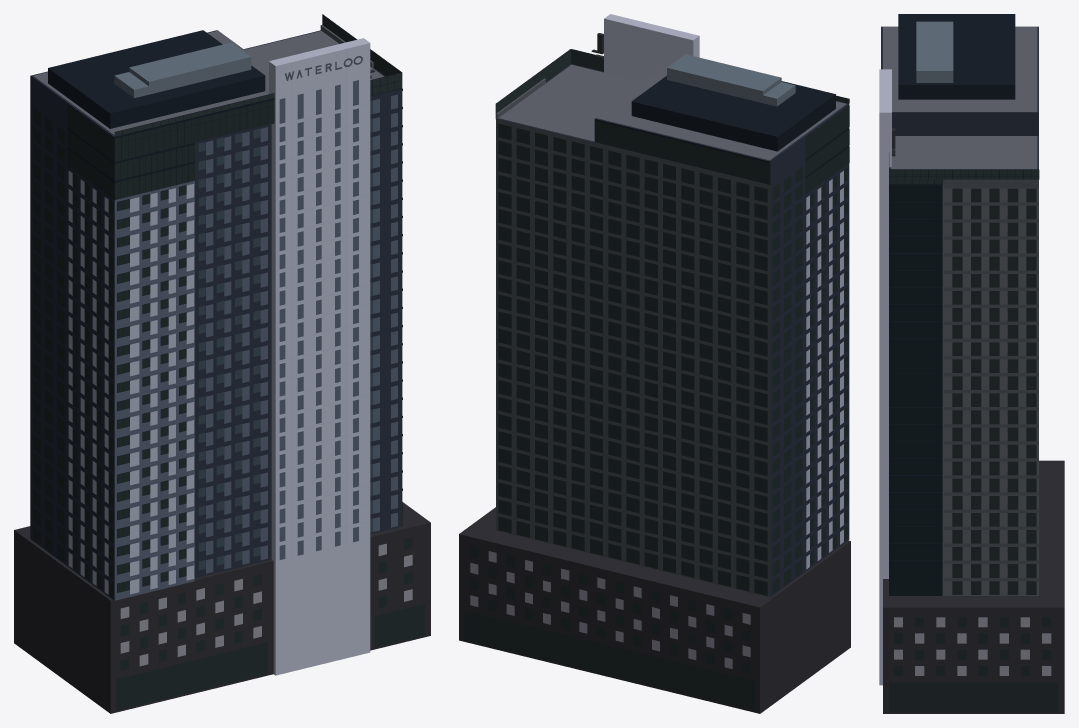
File: waterloo-look.glb
The picture shows the model from 3 angles, left to right: view 1: azimuth 30°, elevation 25°; view 2: azimuth 150°, elevation 25°; view 3: azimuth 270°, elevation 25°; orthographic projection. The views are drawn at different scales.
Parts seen in each view (by area): view 1: n_white, n_charcoal, n_midgrey, n_glass, n_brick, n_white_panel, n_black, n_glass_b, n_duct, n_roof, n_white_joint, n_podium_panel (+2 smaller); view 2: n_glass, n_south_greige, n_brick, n_charcoal, n_black, n_roof, n_white_panel, n_white, n_duct, n_podium_panel, n_glass_rail_c; view 3: n_glass, n_glass_south, n_brick, n_south_white, n_black, n_south_greige, n_roof, n_white, n_charcoal, n_duct, n_glass_rail_c, n_podium_panel.
Part boxes in pixels (box(x1,y1,x2,y2)): n_white: box(269, 38, 370, 675); n_charcoal: box(30, 30, 401, 600); n_midgrey: box(114, 80, 397, 600); n_glass: box(33, 100, 425, 710); n_brick: box(14, 502, 430, 713); n_white_panel: box(68, 170, 194, 594); n_black: box(31, 14, 402, 592); n_glass_b: box(198, 100, 372, 570); n_duct: box(114, 42, 251, 98); n_roof: box(33, 30, 383, 135); n_white_joint: box(276, 49, 370, 558); n_podium_panel: box(120, 543, 412, 666); n_glass: box(464, 105, 849, 710); n_south_greige: box(495, 114, 770, 597); n_brick: box(459, 507, 850, 713); n_charcoal: box(498, 64, 849, 596); n_black: box(496, 49, 849, 178); n_roof: box(498, 64, 846, 160); n_white_panel: box(806, 170, 843, 569); n_white: box(604, 14, 699, 82); n_duct: box(667, 54, 795, 106); n_podium_panel: box(470, 551, 750, 668); n_glass_rail_c: box(495, 49, 603, 113); n_glass: box(889, 188, 1058, 712); n_glass_south: box(889, 187, 941, 595); n_brick: box(883, 460, 1064, 713); n_south_white: box(942, 185, 1038, 595); n_black: box(889, 14, 1039, 595); n_south_greige: box(942, 179, 1038, 581); n_roof: box(883, 27, 1037, 169); n_white: box(879, 69, 891, 685); n_charcoal: box(881, 26, 1038, 169); n_duct: box(916, 21, 953, 82); n_glass_rail_c: box(889, 153, 1038, 184); n_podium_panel: box(894, 617, 1051, 675).
Bounding box in the file's own units: 56.27 × 102 × 30.04.
